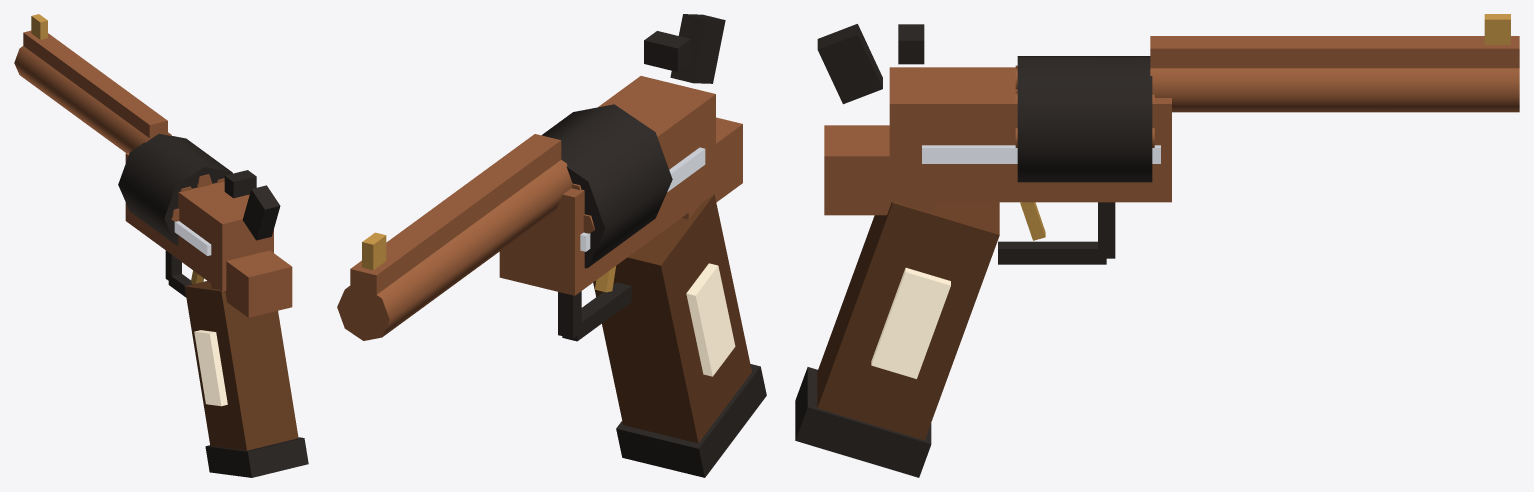
The model's file is BO_SK_Weapon_Revolver_v001.glb.
3 renders of one model, left to right at view 1: azimuth 30°, elevation 25°; view 2: azimuth 150°, elevation 25°; view 3: azimuth 270°, elevation 25°, orthographic. The views are drawn at different scales.
Visible parts, largest first — view 1: body_000, body_002, body_007, body_018, body_017, body_003, body_001, glowfx_025, body_021, body_020, glowfx_023, body_019 (+2 smaller); view 2: body_000, body_002, body_007, body_017, body_018, body_001, glowfx_025, body_021, body_003, body_020, body_004, body_005 (+2 smaller); view 3: body_000, body_002, body_007, body_017, body_018, body_003, body_001, glowfx_024, body_021, body_004, glowfx_022, body_020 (+2 smaller).
Part boxes in pixels (x1,y1,x2,y2): body_000: (184,281,298,450); body_002: (125,152,273,291); body_007: (118,134,232,245); body_018: (23,30,167,139); body_017: (14,46,171,152); body_003: (211,250,292,317); body_001: (205,437,308,477); glowfx_025: (194,330,227,406); body_021: (242,185,280,240); body_020: (224,170,256,198); glowfx_023: (174,221,211,255); body_019: (31,14,47,39); body_000: (593,194,751,443); body_002: (499,76,715,295); body_007: (542,104,672,268); body_017: (337,160,572,340); body_018: (350,134,561,309); body_001: (616,364,766,477); glowfx_025: (686,263,735,376); body_021: (670,14,725,83); body_003: (682,117,742,219); body_020: (644,31,690,71); body_004: (562,282,631,341); body_005: (558,291,581,338); body_000: (817,202,999,440); body_002: (889,67,1171,202); body_007: (1017,56,1152,182); body_017: (1150,68,1519,112); body_018: (1150,36,1519,68); body_003: (824,125,932,215); body_001: (795,367,931,477); glowfx_024: (871,267,950,378); body_021: (817,24,882,104); body_004: (998,241,1106,264); glowfx_022: (922,145,1160,163); body_020: (898,24,924,64).
Size of the model in its own units: 0.062 by 0.224 by 0.3333.
